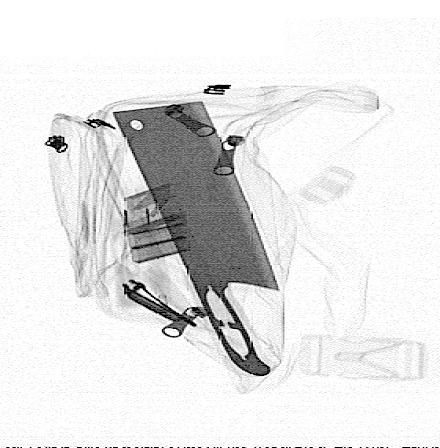Knife: (109, 100, 282, 378)
